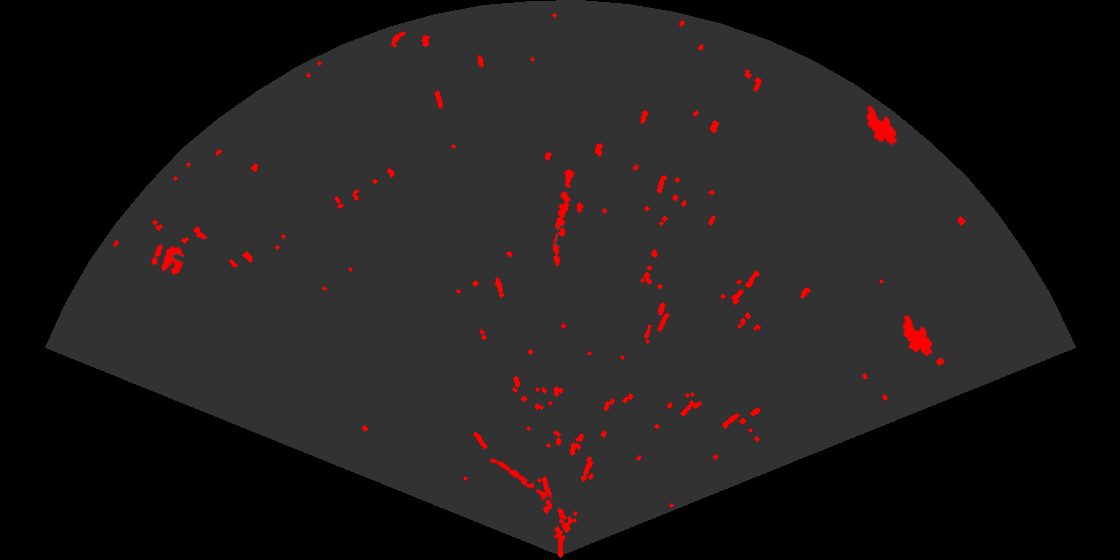AUV: (865, 104, 899, 147), (901, 314, 934, 358)
ball: (150, 243, 186, 276)
chain: (488, 457, 556, 505), (551, 167, 576, 268)
